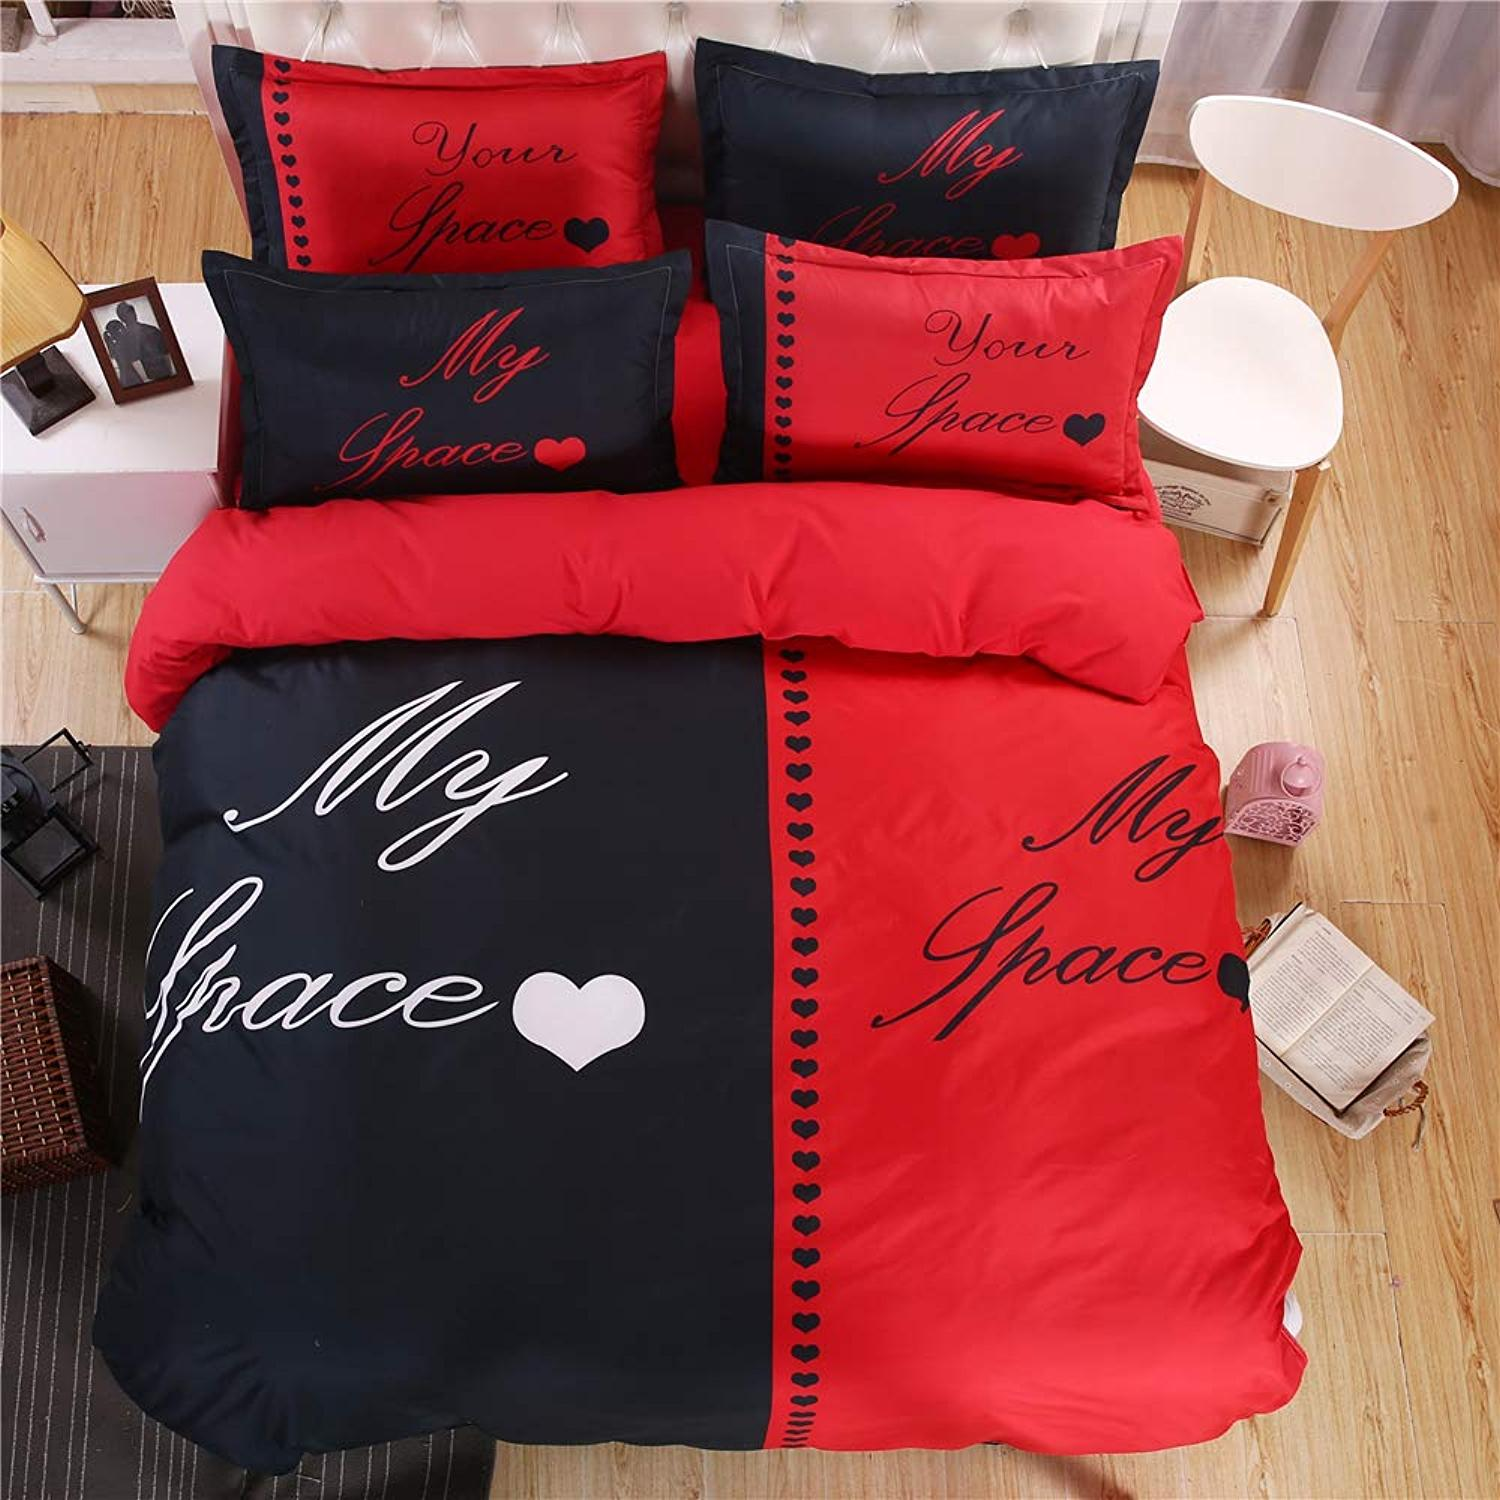bed: (317, 49, 1196, 1423)
